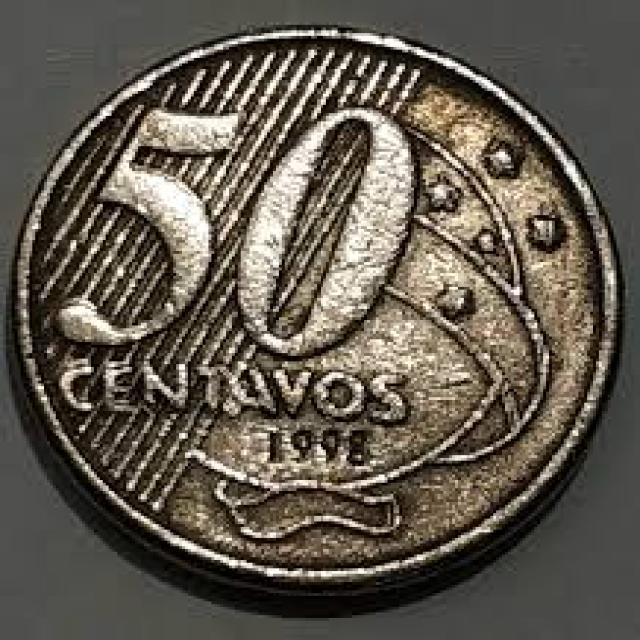50 cent: (10, 18, 622, 608)
